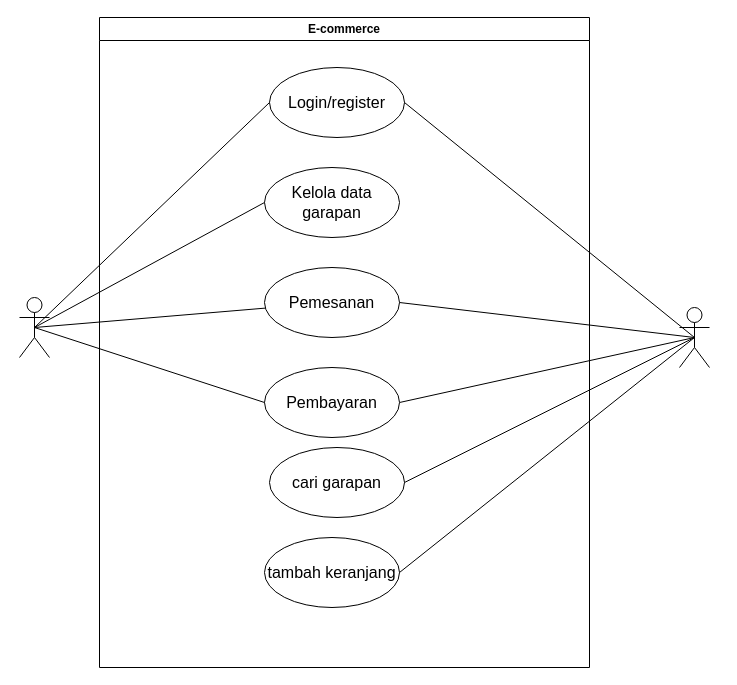
This 737x685 diagram has some shape labels left out. Each missing label, with the centre of its shape:
"Customer" goes at [694,337].
"Petani" goes at [34,327].
